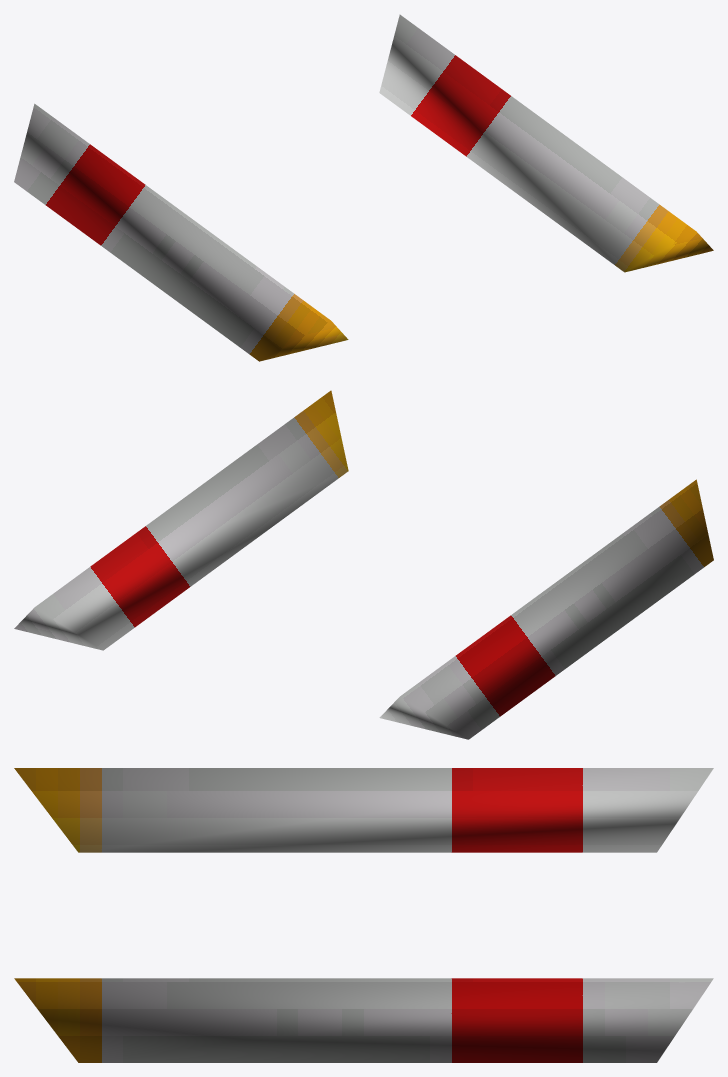
3 views of the same model, one above another, from view 1: azimuth 30°, elevation 25°; view 2: azimuth 150°, elevation 25°; view 3: azimuth 270°, elevation 25° (orthographic). The views are drawn at different scales.
Parts seen in each view (by area): view 1: efe20a86; view 2: efe20a86; view 3: efe20a86.
Part boxes in pixels (x1=…): efe20a86: x1=14, y1=14, x2=713, y2=361; efe20a86: x1=14, y1=390, x2=713, y2=739; efe20a86: x1=14, y1=768, x2=713, y2=1062.
Bounding box in the file's own units: 5.35 × 0.5628 × 6.05.
Materials: 1 (1 with a texture image).
